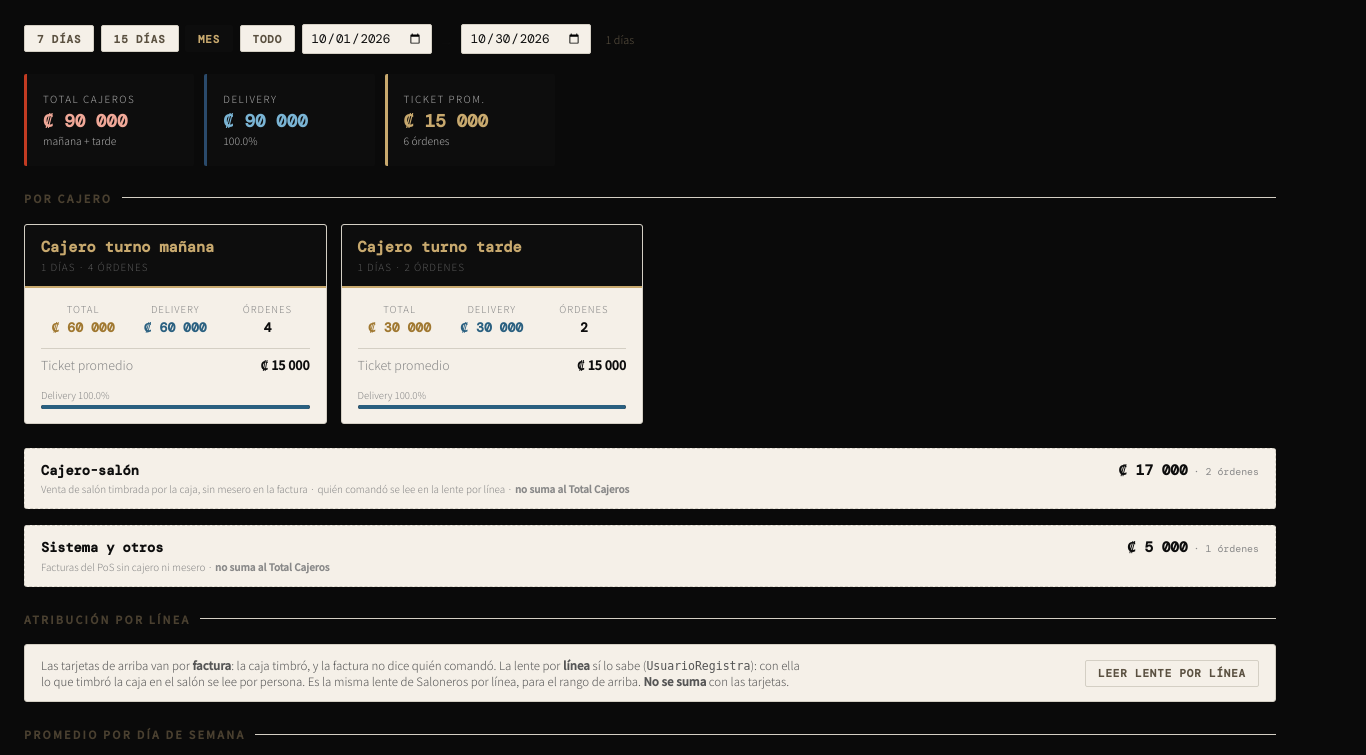
Scenario: VentasCajeros · render › la lente por línea se lee a pedido, con el rango de la pantalla, y se pinta acá
Click the button "Leer lente por línea": (1172, 674) [1085,660,1259,687]
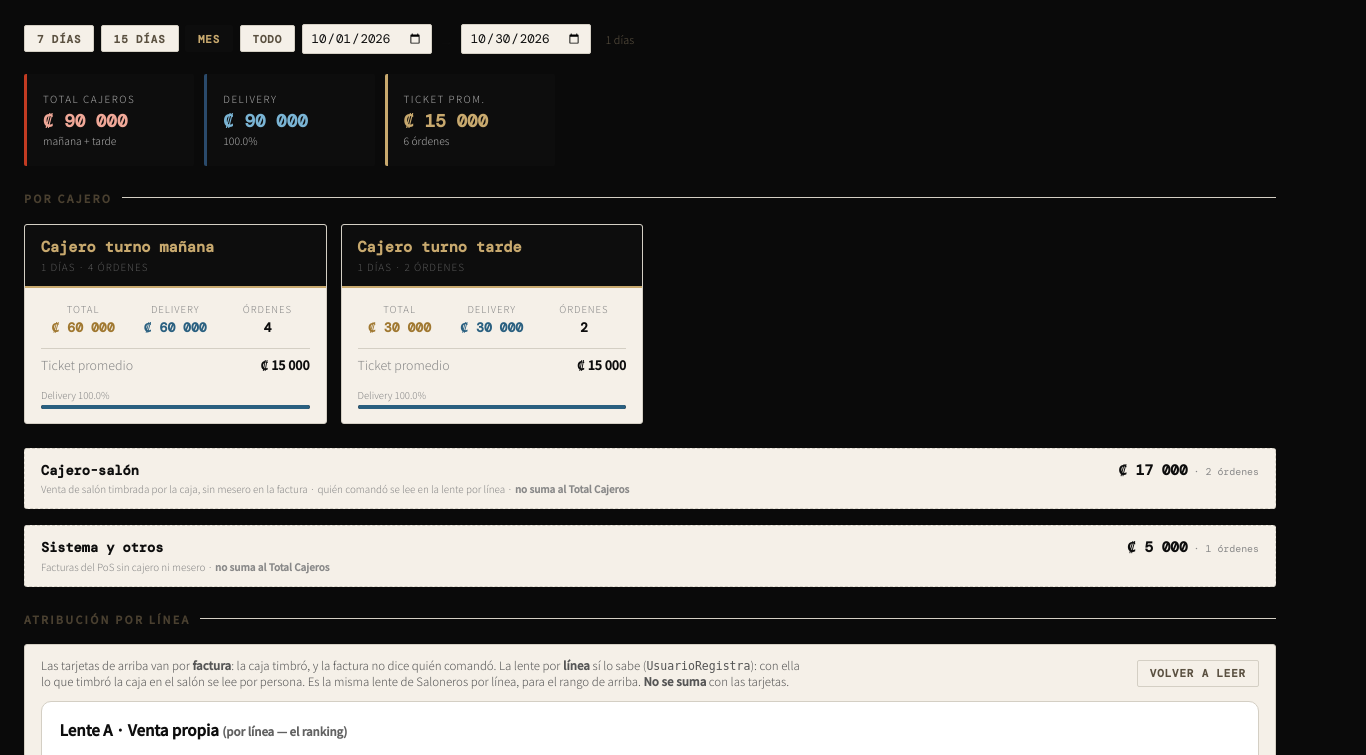
Expected: the text "No se suma" is shown, [643,674,706,690]
Expected: the text "Lente A" is shown, [60,718,222,740]
